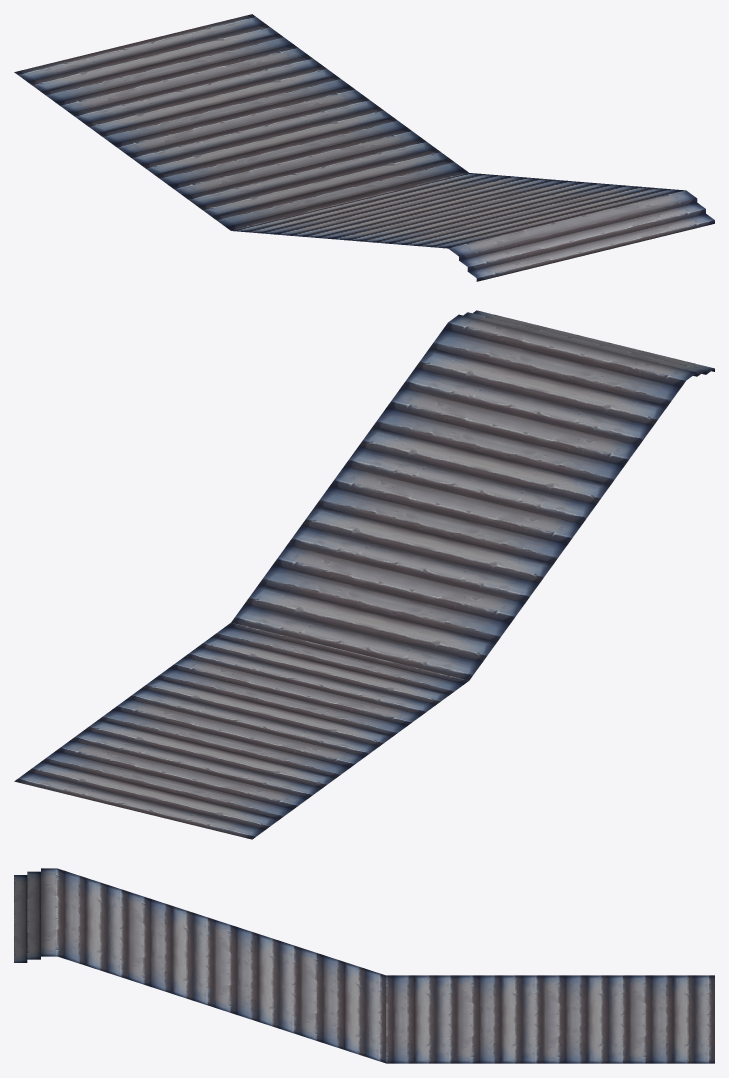
3 renders of one model, top to bottom at view 1: azimuth 30°, elevation 25°; view 2: azimuth 150°, elevation 25°; view 3: azimuth 270°, elevation 25°, orthographic. The views are drawn at different scales.
Parts seen in each view (by area): view 1: gk_jz011_03; view 2: gk_jz011_03; view 3: gk_jz011_03.
Boxes of the visible parts, box(x1,y1,x2,y2) form: gk_jz011_03: box(14, 14, 714, 281); gk_jz011_03: box(14, 310, 714, 839); gk_jz011_03: box(14, 868, 714, 1063).
Bounding box in the file's own units: 376 × 213 × 1263.
